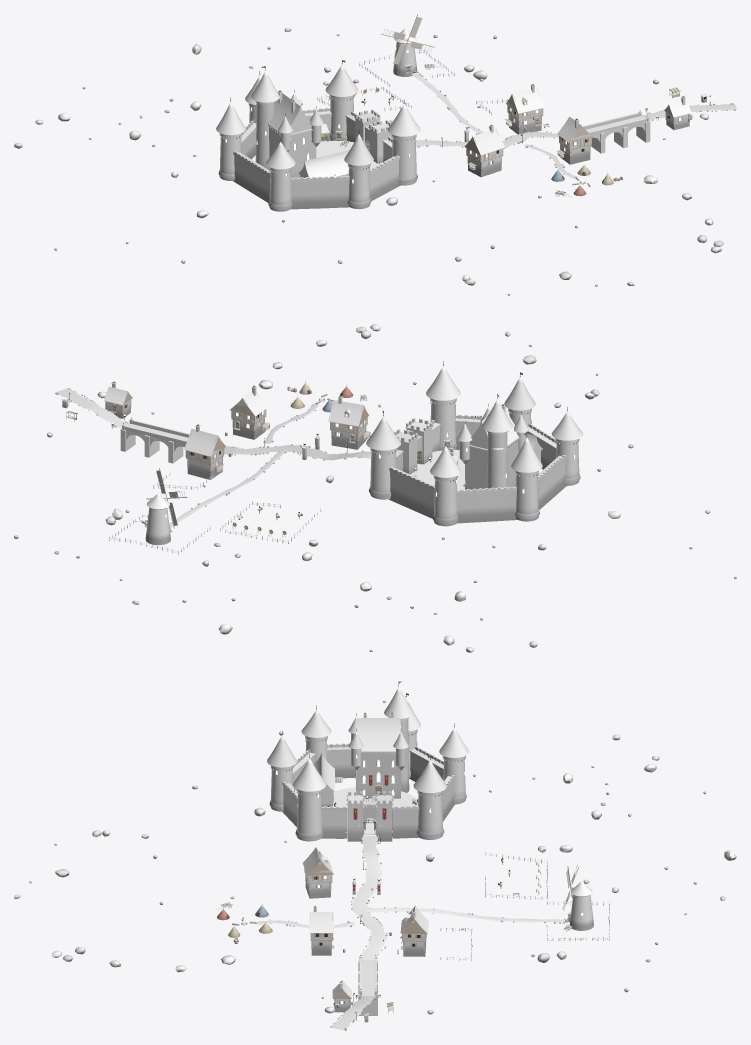
The model's file is castello_bosco.glb.
3 views of the same model, one above another, from view 1: azimuth 30°, elevation 25°; view 2: azimuth 150°, elevation 25°; view 3: azimuth 270°, elevation 25° (orthographic). The views are drawn at different scales.
Parts seen in each view (by area): view 1: mura.muro, torri.muro, torri.tetto, mastio.muro, mastio.tetto, ponte.muro, contado.legno, contado.muro, strada.ciottoli, portone.muro, intorno.muschio, contado.tegole (+10 smaller); view 2: mura.muro, torri.muro, torri.tetto, mastio.muro, strada.ciottoli, ponte.muro, contado.legno, mastio.tetto, contado.muro, portone.muro, intorno.pietra, contado.tegole (+9 smaller); view 3: torri.muro, mura.muro, torri.tetto, strada.ciottoli, mastio.muro, mastio.tetto, portone.muro, contado.legno, strada.terra, intorno.pietra, intorno.muschio, contado.muro (+5 smaller).
Boxes of the visible parts, x1,y1,x2,y2 form: mura.muro: (233,107,400,209); torri.muro: (219,94,416,211); torri.tetto: (216,65,420,169); mastio.muro: (255,92,321,178); mastio.tetto: (251,70,323,133); ponte.muro: (583,98,689,153); contado.legno: (464,90,592,170); contado.muro: (468,86,590,177); strada.ciottoli: (415,104,736,147); portone.muro: (354,109,392,163); intorno.muschio: (35,28,708,295); contado.tegole: (506,87,593,142); mura.muro: (389,414,566,523); torri.muro: (370,398,579,526); torri.tetto: (366,366,583,477); mastio.muro: (459,406,526,489); strada.ciottoli: (56,388,371,460); ponte.muro: (107,384,189,463); contado.legno: (153,392,370,489); mastio.tetto: (457,399,529,449); contado.muro: (187,388,365,479); portone.muro: (394,418,432,474); intorno.pietra: (105,324,736,651); contado.tegole: (184,390,267,456); torri.muro: (270,729,465,841); mura.muro: (282,743,455,838); torri.tetto: (267,698,469,793); strada.ciottoli: (330,835,386,1030); mastio.muro: (351,715,409,798); mastio.tetto: (348,687,413,751); portone.muro: (346,791,393,841); contado.legno: (304,850,472,960); strada.terra: (256,907,564,928); intorno.pietra: (52,700,736,967); intorno.muschio: (14,731,725,1014); contado.muro: (305,854,425,956).
Bounding box in the file's own units: 226 × 49.08 × 210.
